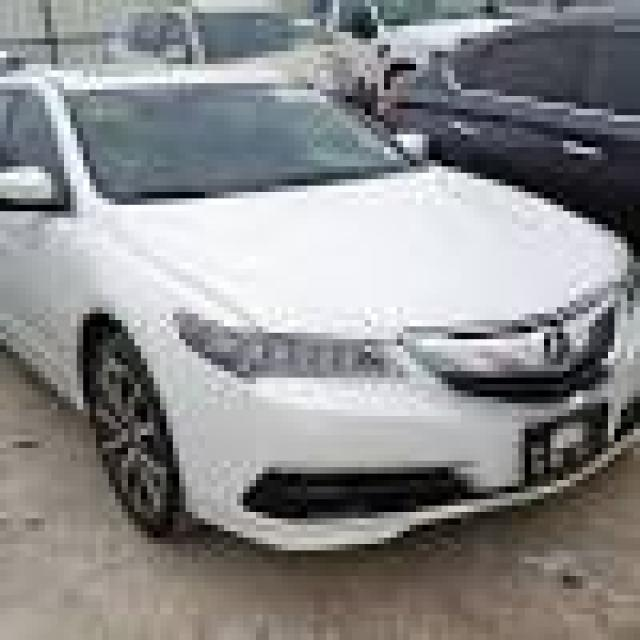minor: (305, 318, 406, 337)
